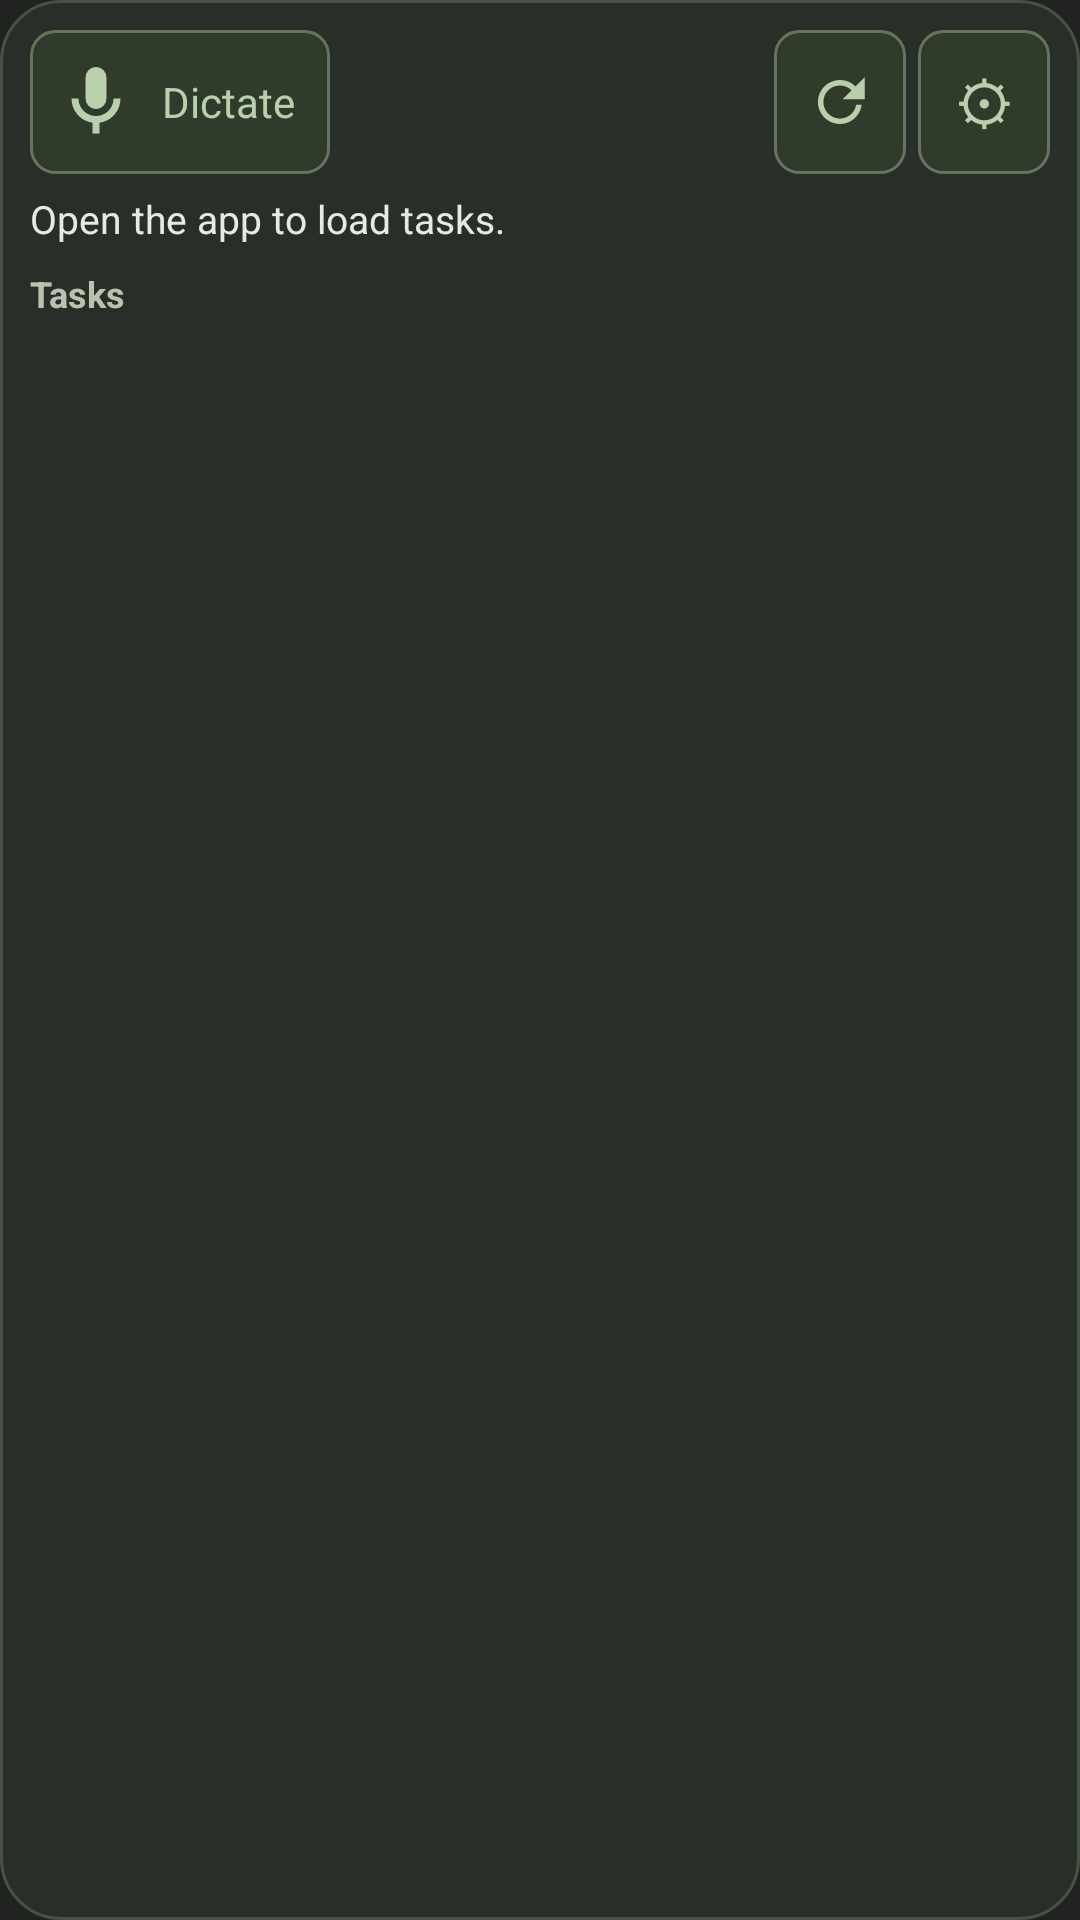

Icon click points for this 1080 x 1920 phone screenshot, format [x,y]:
Refresh widget: [840,102]
